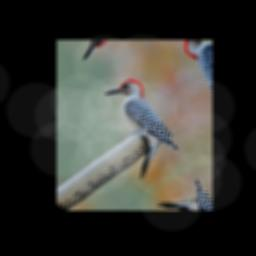Woodpecker: (87, 66, 190, 189)
